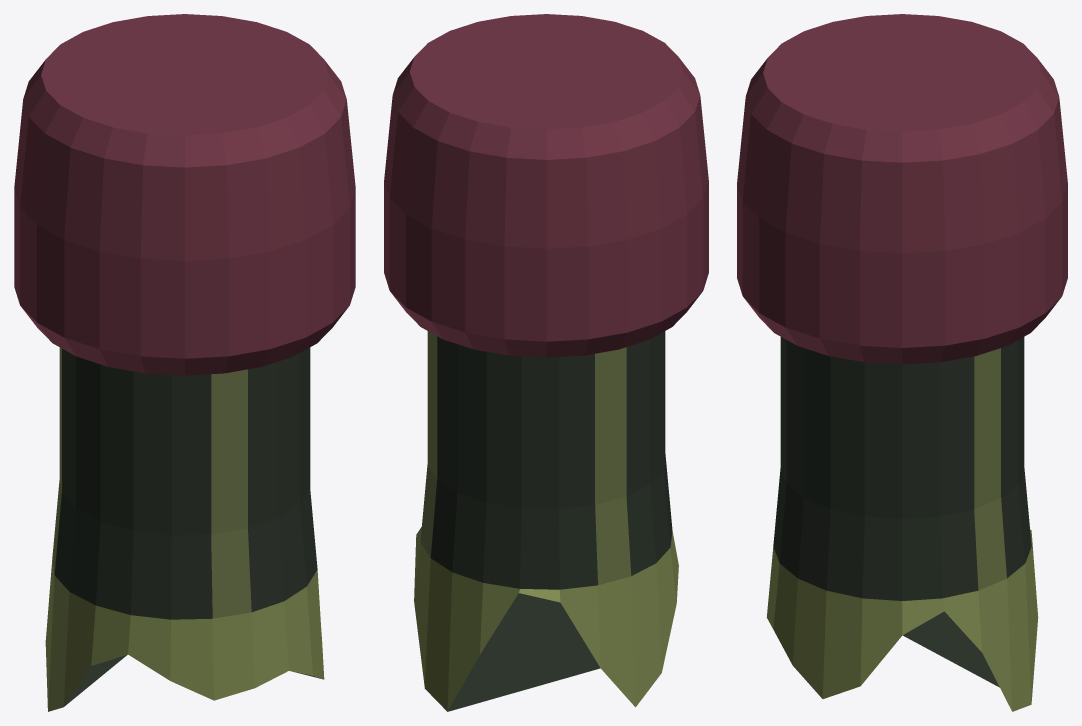
File: wine_bottle_piece_neck.glb
The picture shows the model from 3 angles, left to right: view 1: azimuth 30°, elevation 25°; view 2: azimuth 150°, elevation 25°; view 3: azimuth 270°, elevation 25°; orthographic projection. The views are drawn at different scales.
Parts seen in each view (by area): view 1: Retained original bottle closure.002, Jagged shoulder and sealed neck.002; view 2: Retained original bottle closure.002, Jagged shoulder and sealed neck.002; view 3: Retained original bottle closure.002, Jagged shoulder and sealed neck.002.
Boxes of the visible parts, x1,y1,x2,y2 form: Retained original bottle closure.002: (14, 14, 355, 375); Jagged shoulder and sealed neck.002: (45, 347, 324, 711); Retained original bottle closure.002: (384, 14, 708, 357); Jagged shoulder and sealed neck.002: (414, 331, 678, 711); Retained original bottle closure.002: (737, 14, 1067, 364); Jagged shoulder and sealed neck.002: (766, 337, 1038, 711).
Bounding box in the file's own units: 0.038 × 0.0778 × 0.038.
